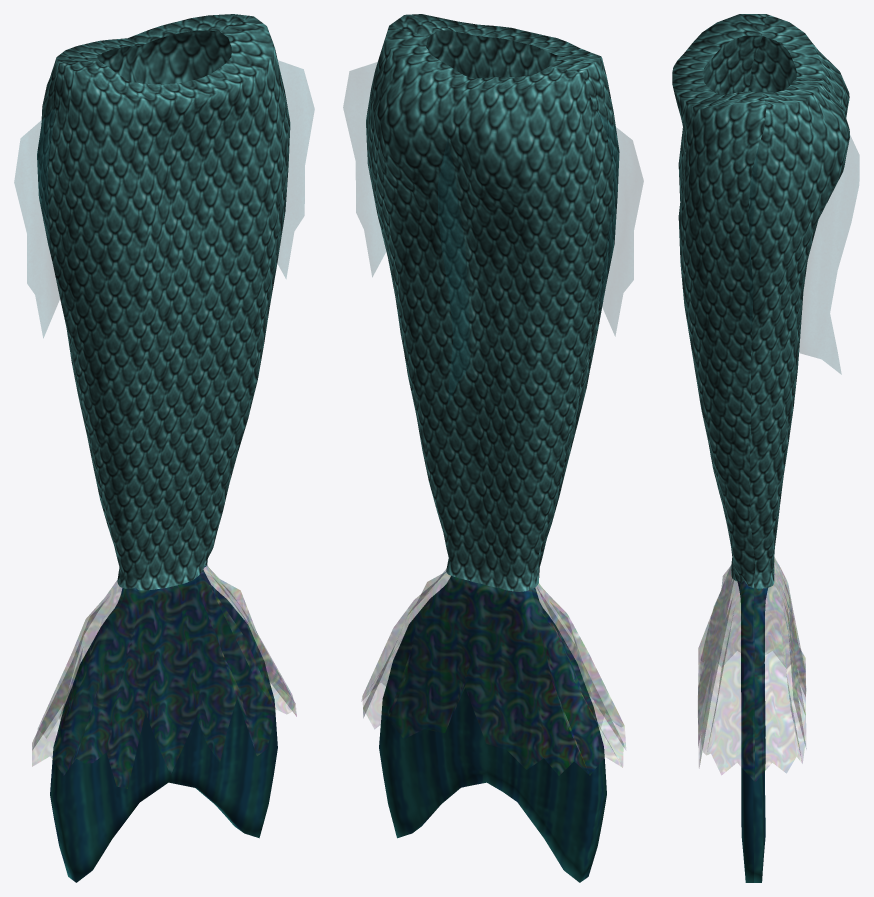
The model's file is elvs_mermaid_fishtail.glb.
3 views of the same model, side by side, from view 1: azimuth 30°, elevation 25°; view 2: azimuth 150°, elevation 25°; view 3: azimuth 270°, elevation 25° (orthographic). The views are drawn at different scales.
Visible parts, largest first — view 1: elvs_mermaid_tail_f1; view 2: elvs_mermaid_tail_f1; view 3: elvs_mermaid_tail_f1.
Boxes of the visible parts, x1,y1,x2,y2 form: elvs_mermaid_tail_f1: (14, 14, 314, 882); elvs_mermaid_tail_f1: (343, 14, 643, 882); elvs_mermaid_tail_f1: (672, 14, 859, 882).
Bounding box in the file's own units: 4.62 × 11.95 × 2.6.
Materials: 1 (1 with a texture image).
